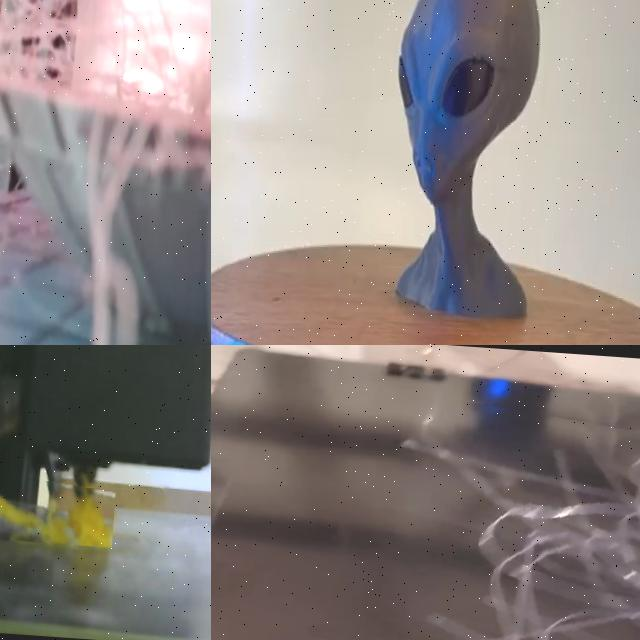spaghetti: (0, 0, 211, 345), (373, 389, 640, 640), (0, 486, 113, 547)
